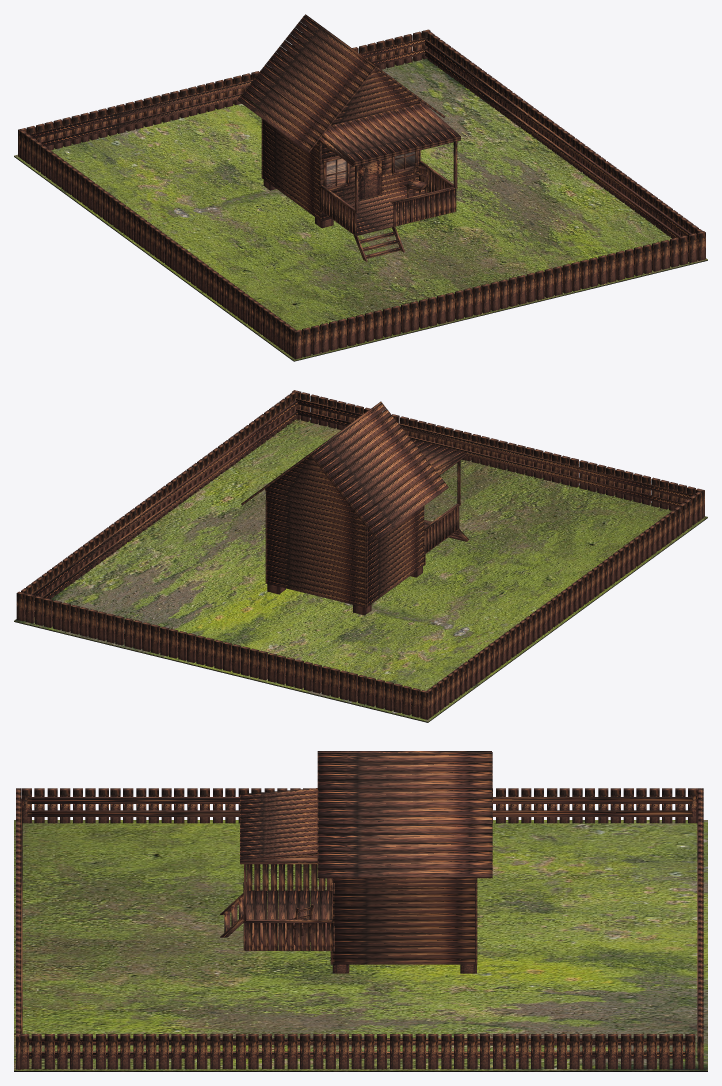
The model's file is house2.glb.
The picture shows the model from 3 angles, top to bottom: view 1: azimuth 30°, elevation 25°; view 2: azimuth 150°, elevation 25°; view 3: azimuth 270°, elevation 25°; orthographic projection. The views are drawn at different scales.
Parts seen in each view (by area): view 1: Box311, Box564, Box565, Box569, Box570, Box571, Box284, Box174, Box166, Box172, Box176, Box177 (+10 smaller); view 2: Box311, Box563, Box564, Box565, Box566, Box571, Box173, Box174, Box177, Box168, Box178, Box166 (+26 smaller); view 3: Box311, Box567, Box568, Box152, Box157, Box158, Box162, Box159, Box153, Box154, Box155, Box156 (+24 smaller).
Part boxes in pixels (x1,y1,x2,y2): Box311: (14,58,707,360); Box564: (425,40,691,236); Box565: (425,50,680,238); Box569: (30,37,427,138); Box570: (40,48,427,146); Box571: (14,156,707,361); Box284: (359,160,381,199); Box174: (275,46,351,104); Box166: (237,94,313,152); Box172: (266,58,342,116); Box176: (285,34,361,91); Box177: (290,27,366,85); Box311: (14,419,707,722); Box563: (296,398,692,499); Box564: (31,400,297,597); Box565: (34,411,297,608); Box566: (296,409,682,506); Box571: (14,517,707,722); Box173: (339,439,415,497); Box174: (334,433,410,491); Box177: (320,415,396,473); Box168: (363,469,439,527); Box178: (315,409,391,466); Box166: (373,482,448,539); Box311: (14,820,707,1070); Box567: (27,797,692,803); Box568: (27,810,692,816); Box152: (317,868,492,878); Box157: (317,824,492,833); Box158: (317,815,492,824); Box162: (317,779,492,788); Box159: (317,806,492,815); Box153: (317,860,492,868); Box154: (317,851,492,859); Box155: (317,842,492,850); Box156: (317,833,492,841).
Size of the model in its own units: 4.83 by 1.74 by 5.66.
4 materials, 4 textured.
